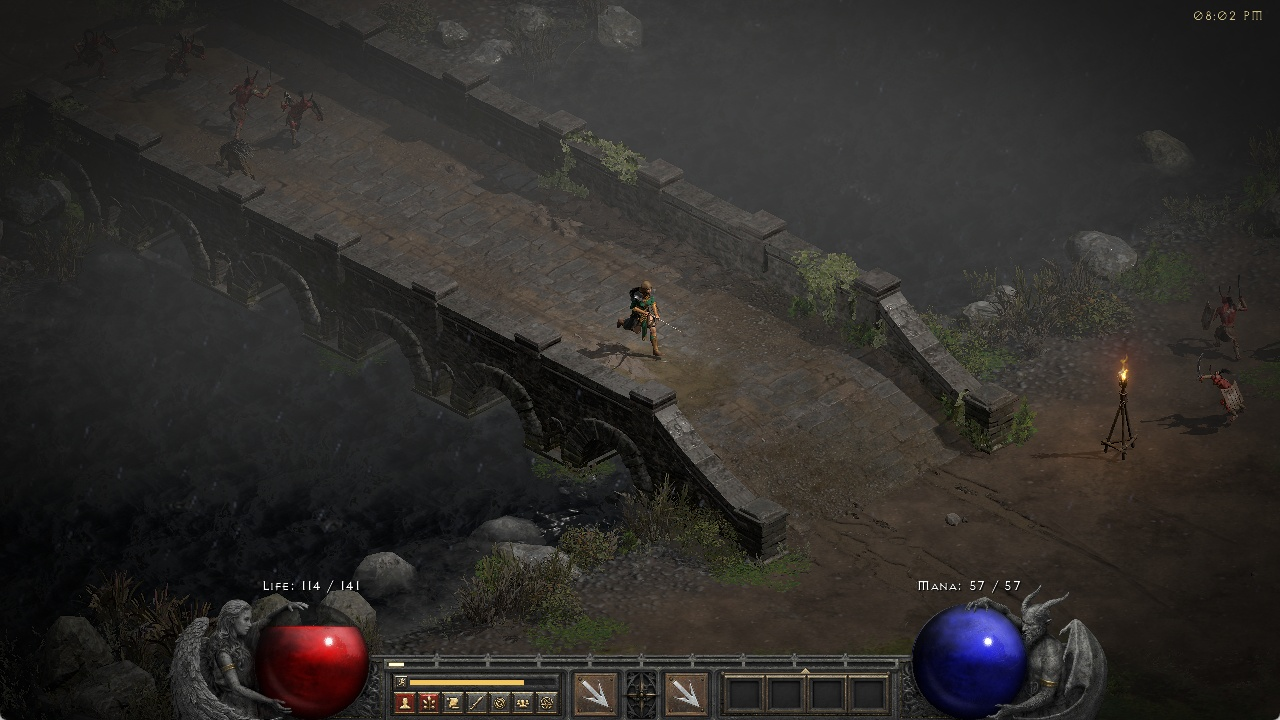fallen: (1191, 356, 1245, 426), (1199, 279, 1245, 355), (223, 68, 271, 139), (61, 28, 122, 77), (158, 32, 209, 86), (281, 88, 324, 147)
